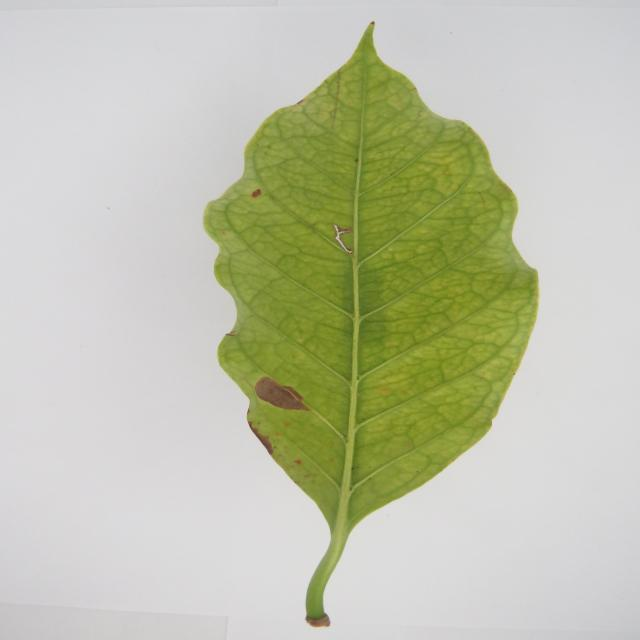DeficienciaNutricional-Calcio: (205, 24, 538, 628)
